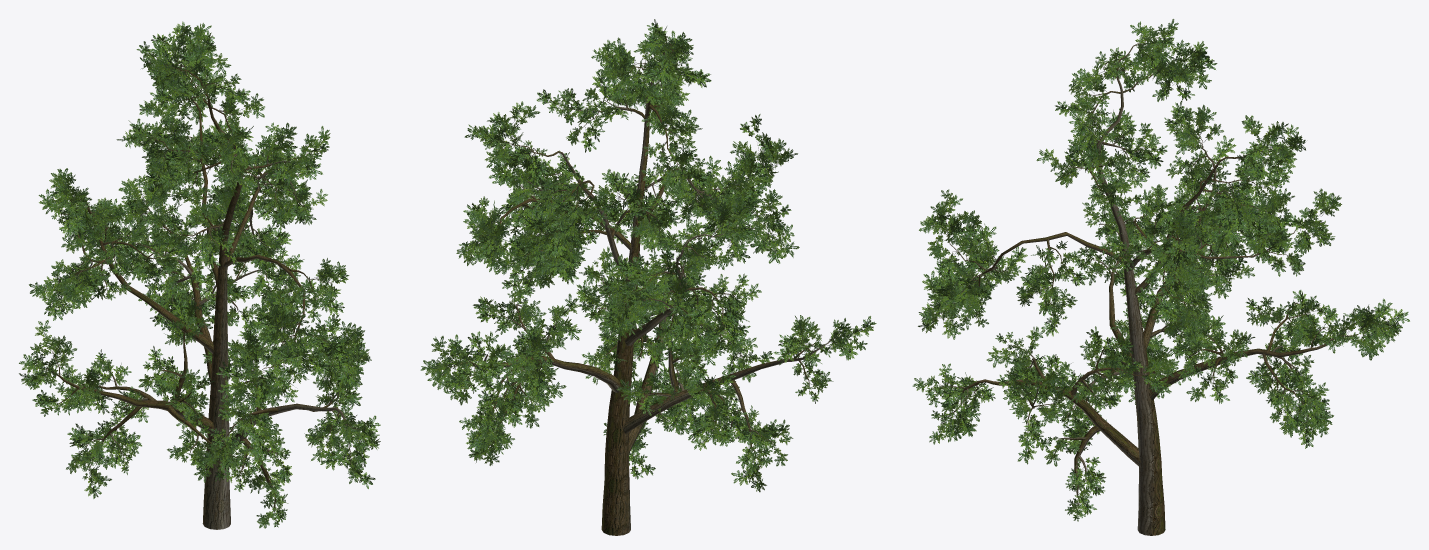
Rendered from tree_ash_medium.optimized.glb.
The picture shows the model from 3 angles, left to right: view 1: azimuth 30°, elevation 25°; view 2: azimuth 150°, elevation 25°; view 3: azimuth 270°, elevation 25°; orthographic projection. The views are drawn at different scales.
Visible parts, largest first — view 1: TREE_ASH_LEAVE, TRUNK; view 2: TREE_ASH_LEAVE, TRUNK; view 3: TREE_ASH_LEAVE, TRUNK.
Boxes of the visible parts, box(x1,y1,x2,y2) form: TREE_ASH_LEAVE: box(19, 21, 380, 528); TRUNK: box(45, 44, 358, 529); TREE_ASH_LEAVE: box(420, 19, 876, 492); TRUNK: box(449, 38, 850, 535); TREE_ASH_LEAVE: box(912, 19, 1409, 521); TRUNK: box(936, 38, 1381, 535).
Size of the model in its own units: 2.34 by 3.13 by 2.94.
2 materials, 2 textured.
